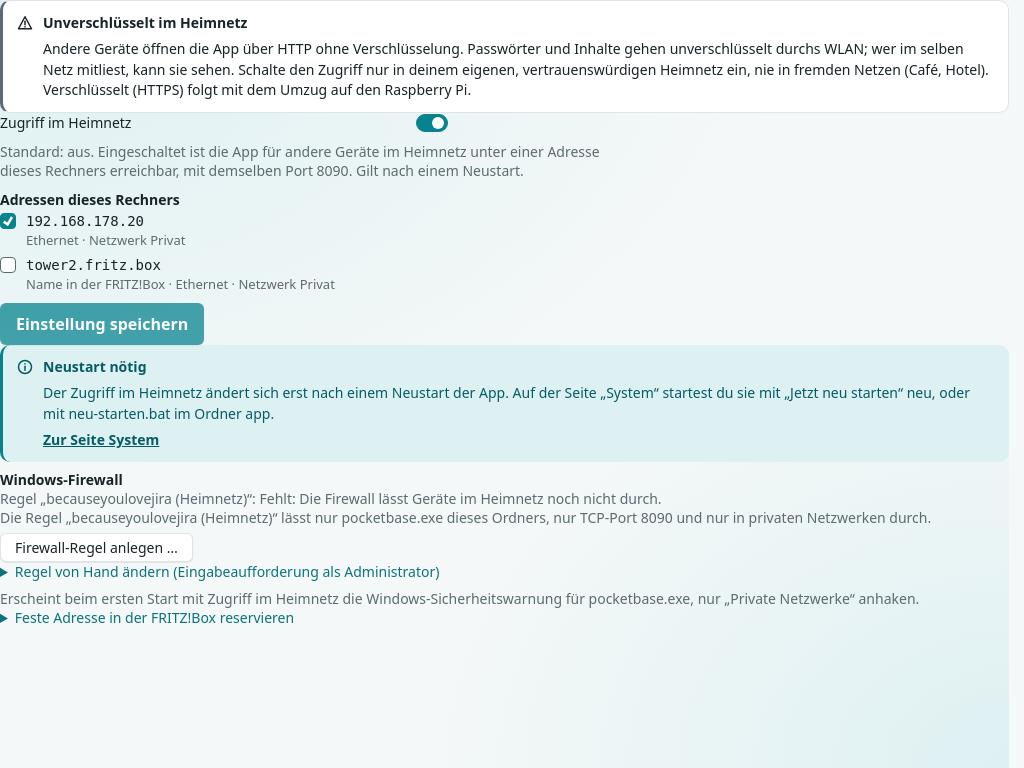
access in the home network › creates the firewall rule only after a confirmation that names the prompt of Windows
Expected: the text "Fehlt: Die Firewall lässt Geräte im Heimnetz noch nicht durch" is shown, [0,489,662,508]
Click the button "Firewall-Regel anlegen …". click: (96, 548)
box: [0,533,193,562]
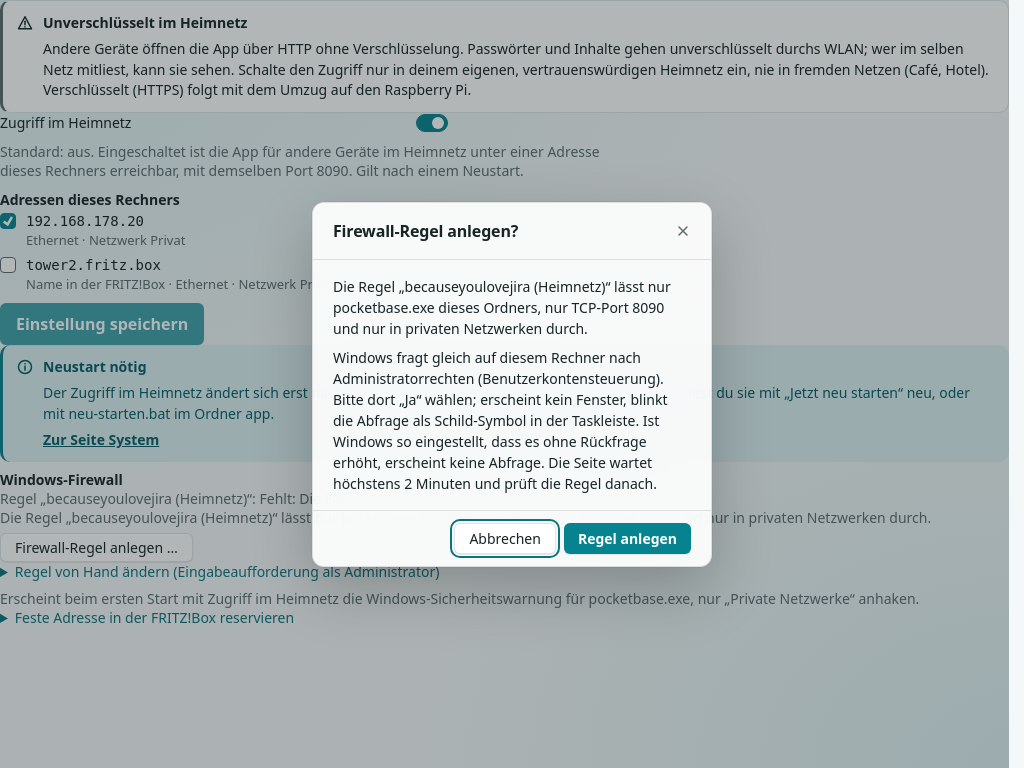
Expected: the text "fragt gleich auf diesem Rechner nach Administratorrechten" is shown, [333,348,668,492]
Expected: the text "nur TCP-Port 8090 und nur in privaten Netzwerken" is shown, [333,276,671,338]
Click the button "Regel anlegen". click: (627, 538)
box: [564,522,691,554]
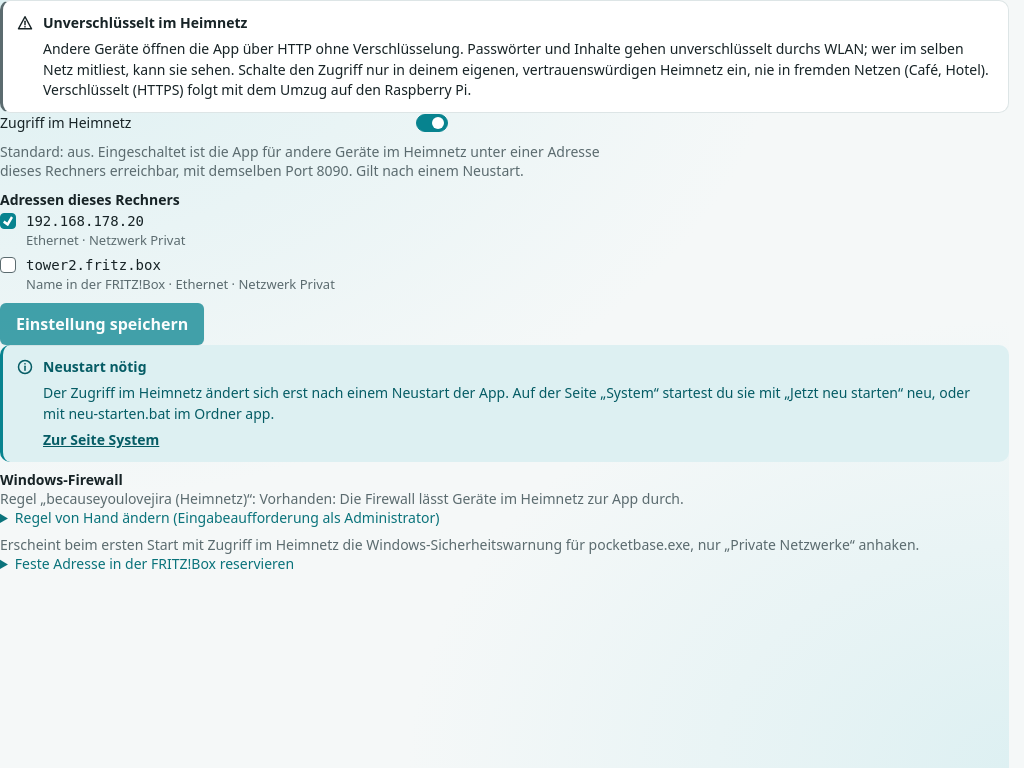
Expected: the text "Vorhanden: Die Firewall lässt Geräte im Heimnetz zur App durch" is shown, [0,489,684,508]
Expected: the button "Firewall-Regel anlegen …" is gone
